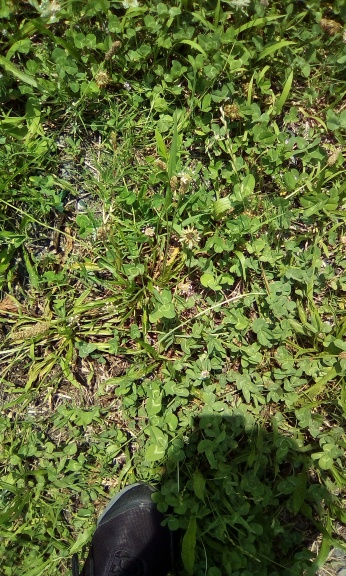4leaf: (148, 285, 176, 320)
